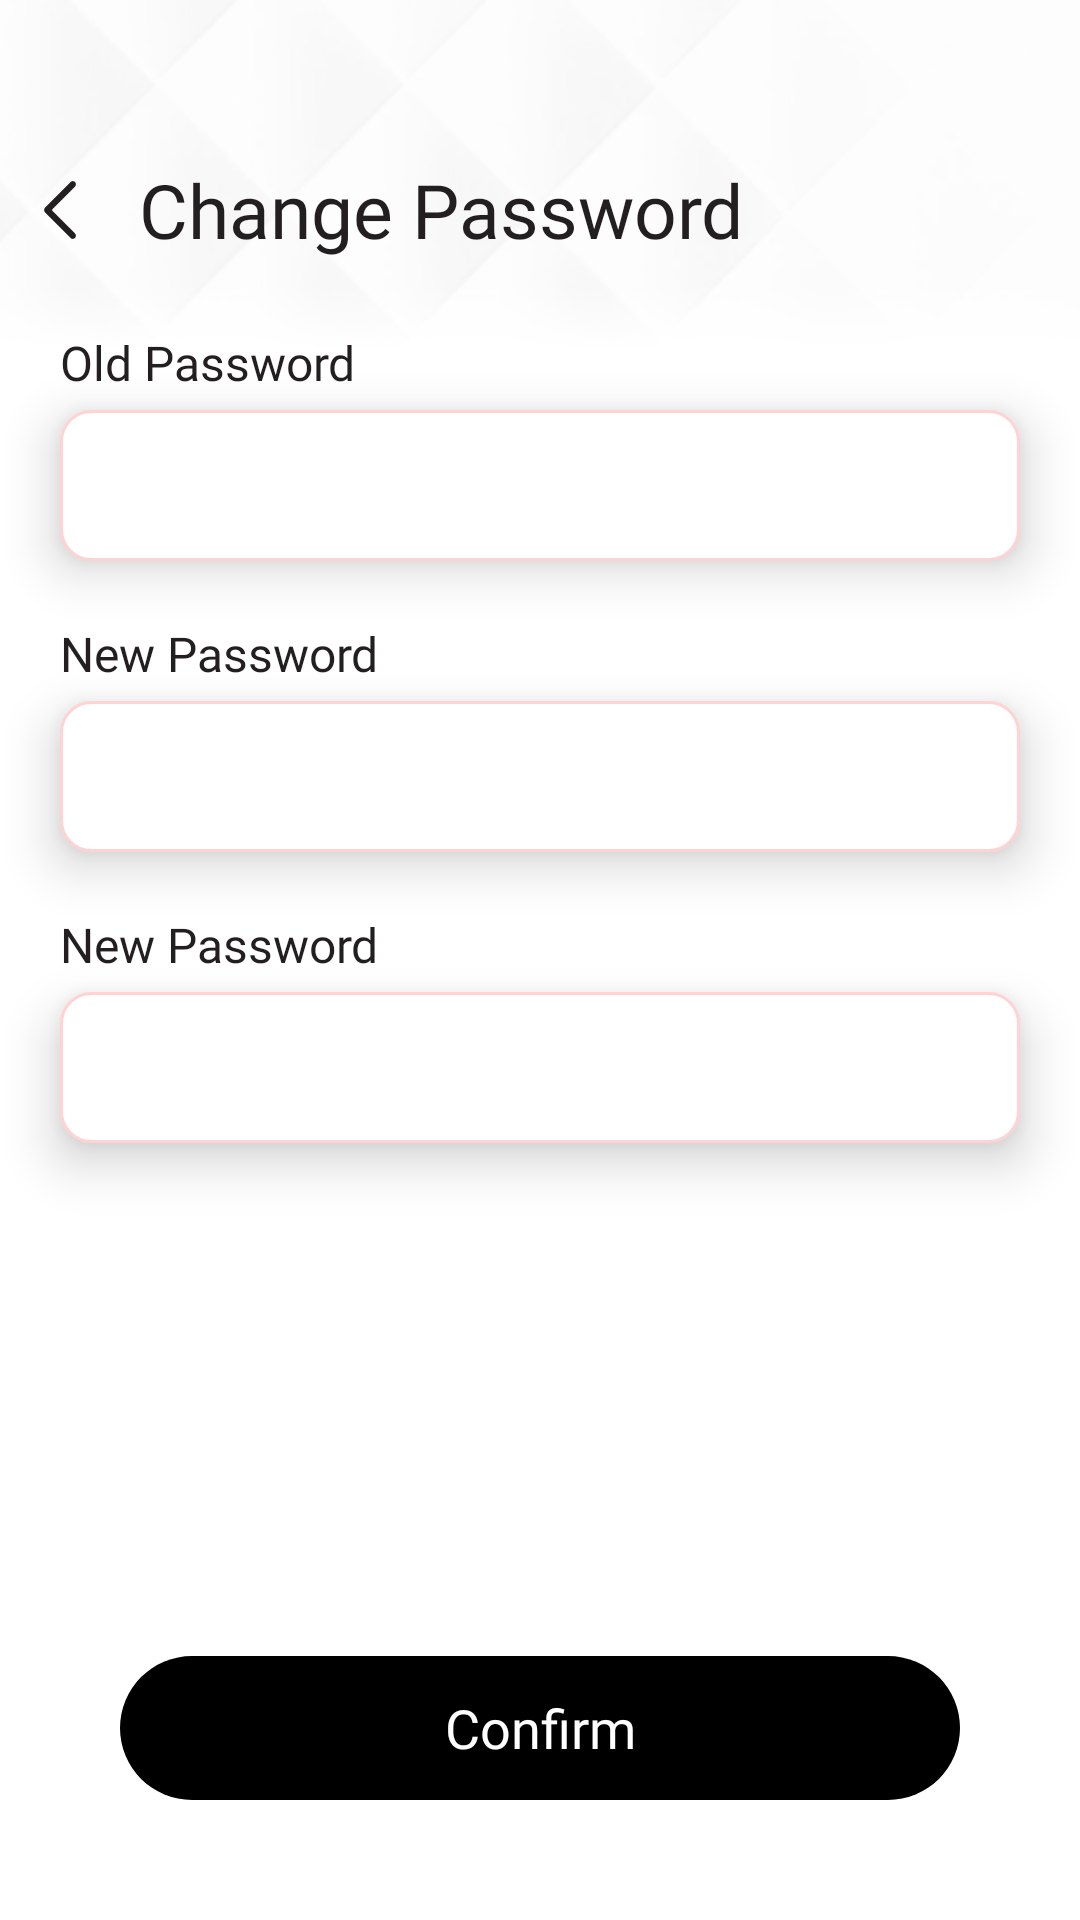

Locate icon controls on the screen. Image size 1080*1920, boxes as bbox(x1, y1, x2, y2).
back: bbox(44, 181, 76, 239)
